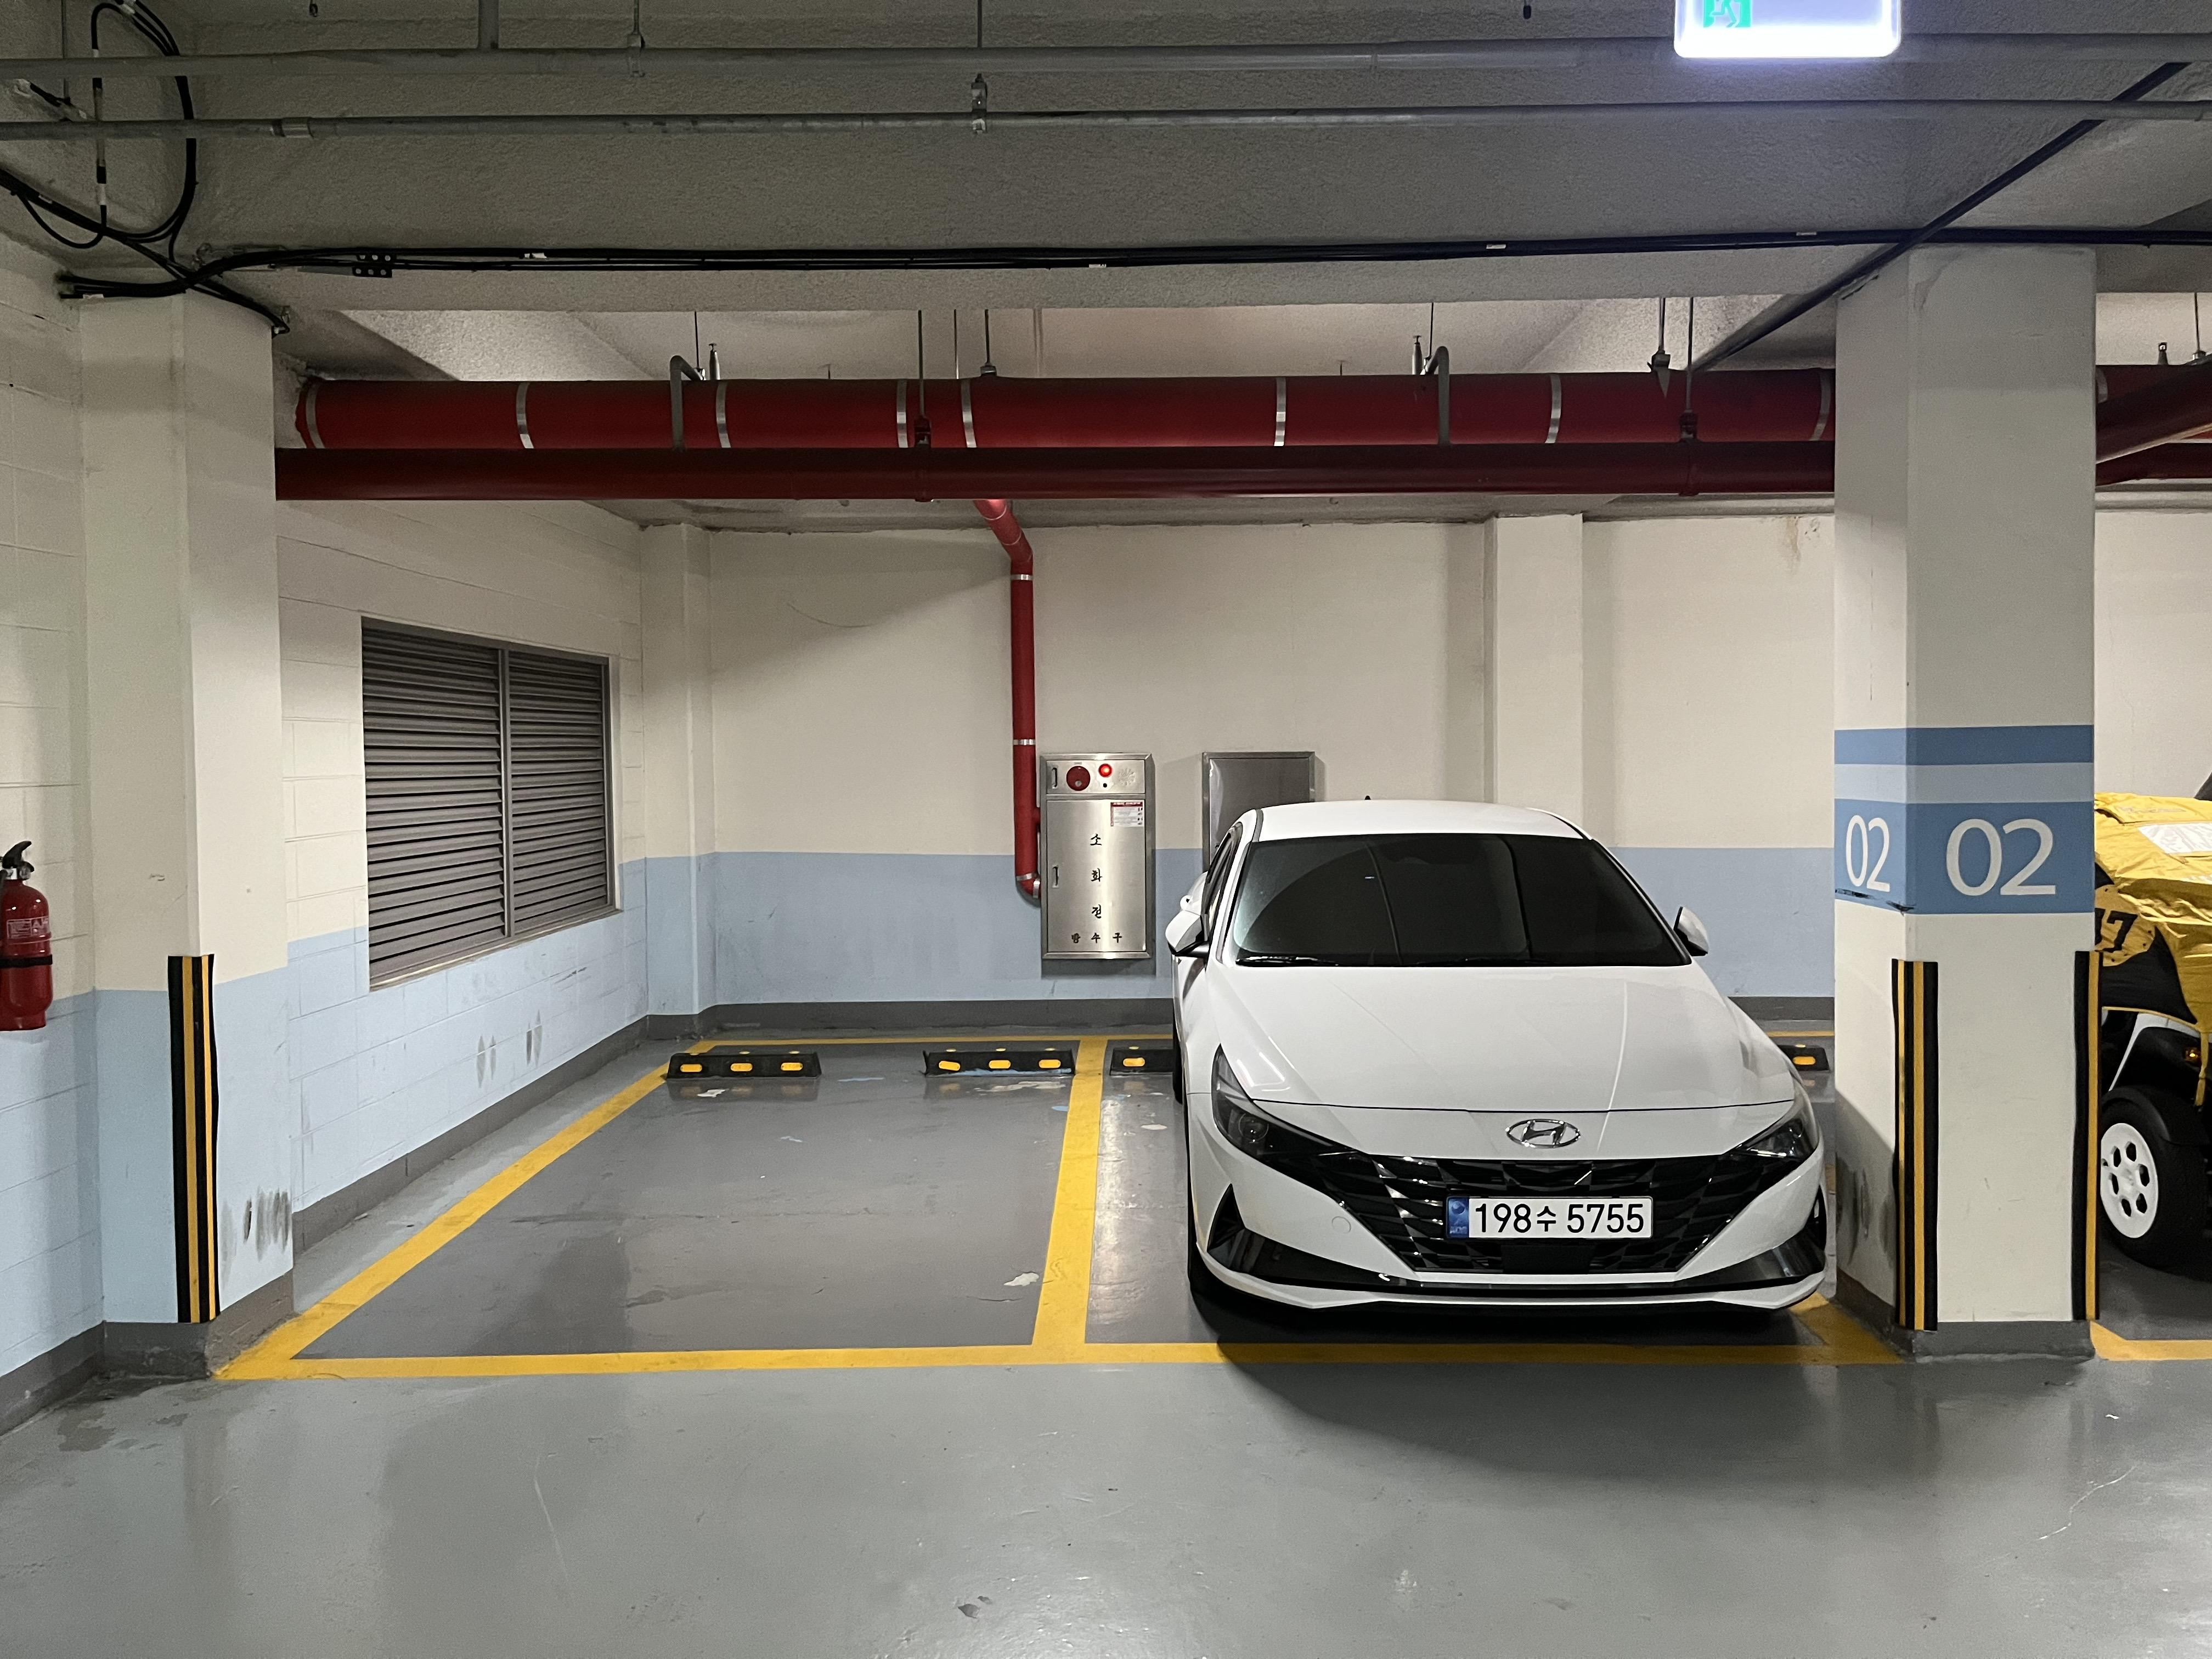empty: (204, 1013, 1103, 1387)
occupied: (1147, 774, 1884, 1402)
